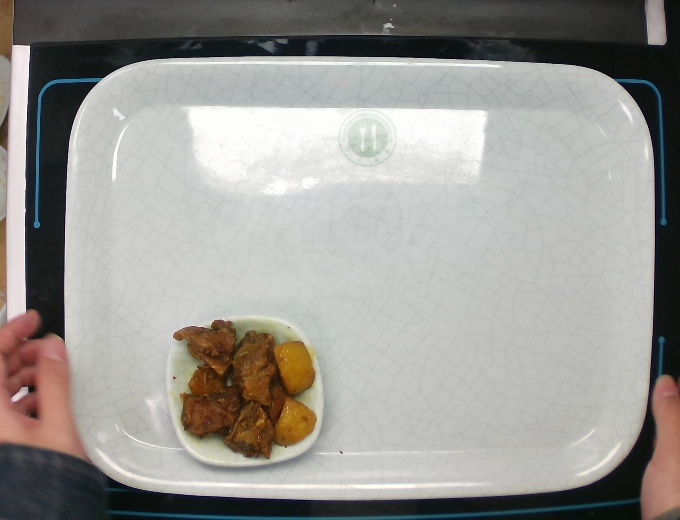JYsf-Si_Fang_Die: (163, 312, 326, 470)
